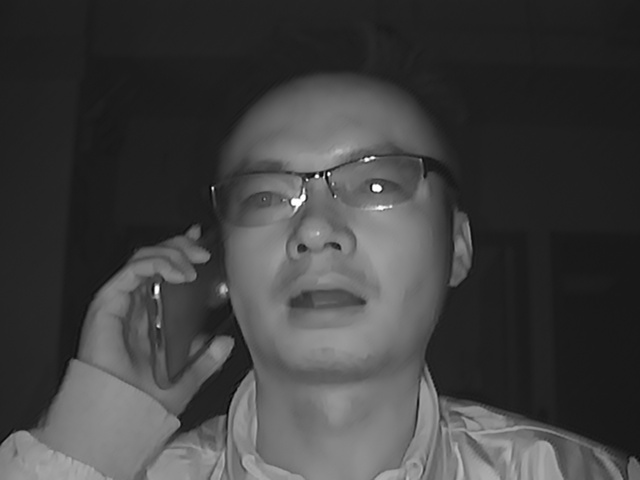hand: (86, 232, 206, 400)
